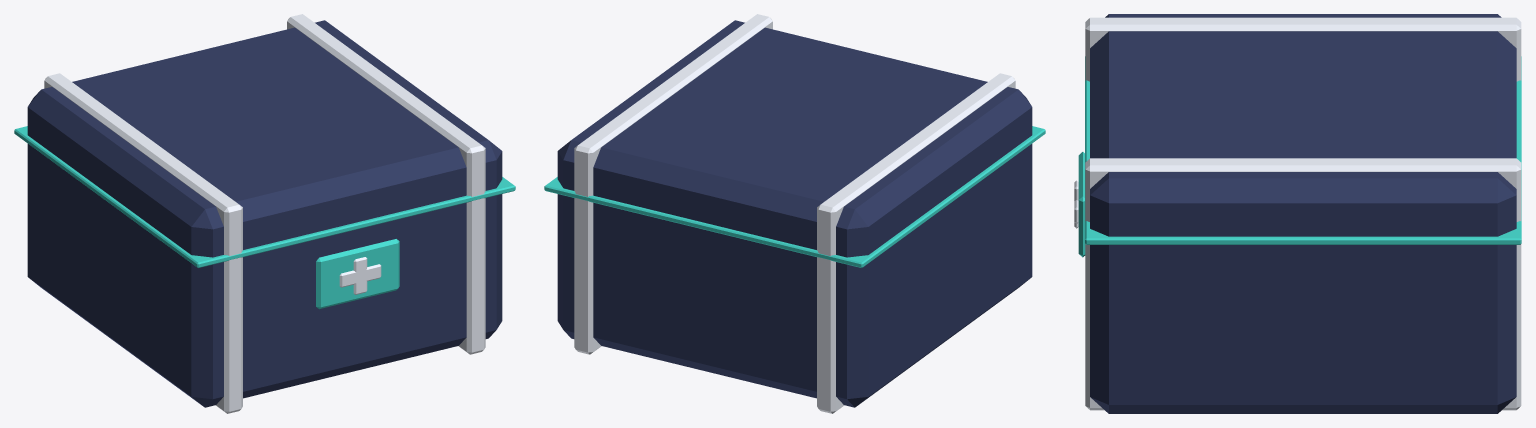
File: crate.glb
3 views of the same model, side by side, from view 1: azimuth 30°, elevation 25°; view 2: azimuth 150°, elevation 25°; view 3: azimuth 270°, elevation 25° (orthographic). The views are drawn at different scales.
Parts seen in each view (by area): view 1: supply case, case strap.001, case strap, lid seam, front badge, badge cross.001, badge cross; view 2: supply case, case strap.001, case strap, lid seam; view 3: supply case, case strap.001, case strap, lid seam, front badge.
Boxes of the visible parts, x1,y1,x2,y2 form: supply case: [27, 20, 502, 407]; case strap.001: [287, 14, 485, 354]; case strap: [44, 73, 242, 413]; lid seam: [14, 126, 515, 267]; front badge: [316, 239, 399, 309]; badge cross.001: [339, 264, 381, 287]; badge cross: [353, 257, 367, 294]; supply case: [557, 20, 1032, 407]; case strap.001: [574, 14, 772, 354]; case strap: [817, 73, 1015, 413]; lid seam: [544, 126, 1045, 267]; supply case: [1090, 14, 1516, 413]; case strap.001: [1085, 158, 1521, 410]; case strap: [1085, 17, 1521, 81]; lid seam: [1085, 56, 1521, 244]; front badge: [1078, 152, 1085, 257].
Bounding box in the file's own units: 4.2 × 2.6 × 4.3.
